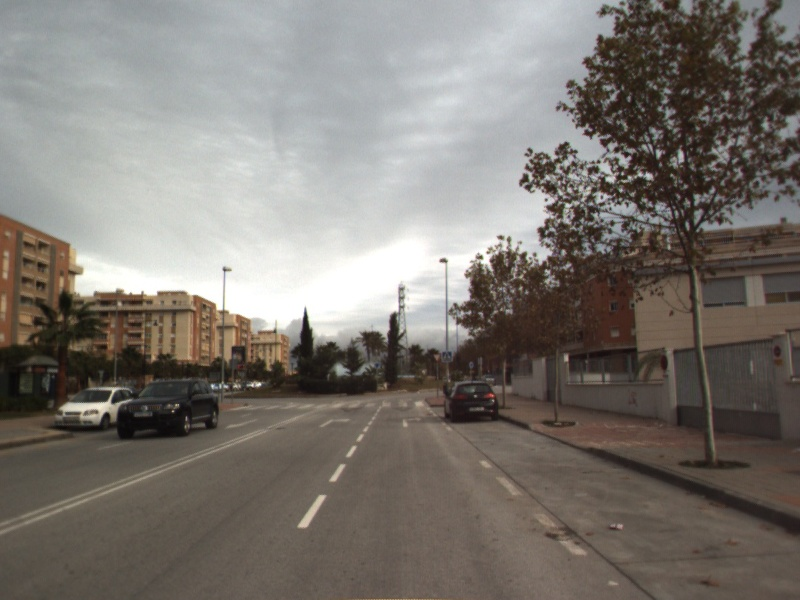RIGHT: (317, 416, 353, 429), (400, 414, 424, 429)
